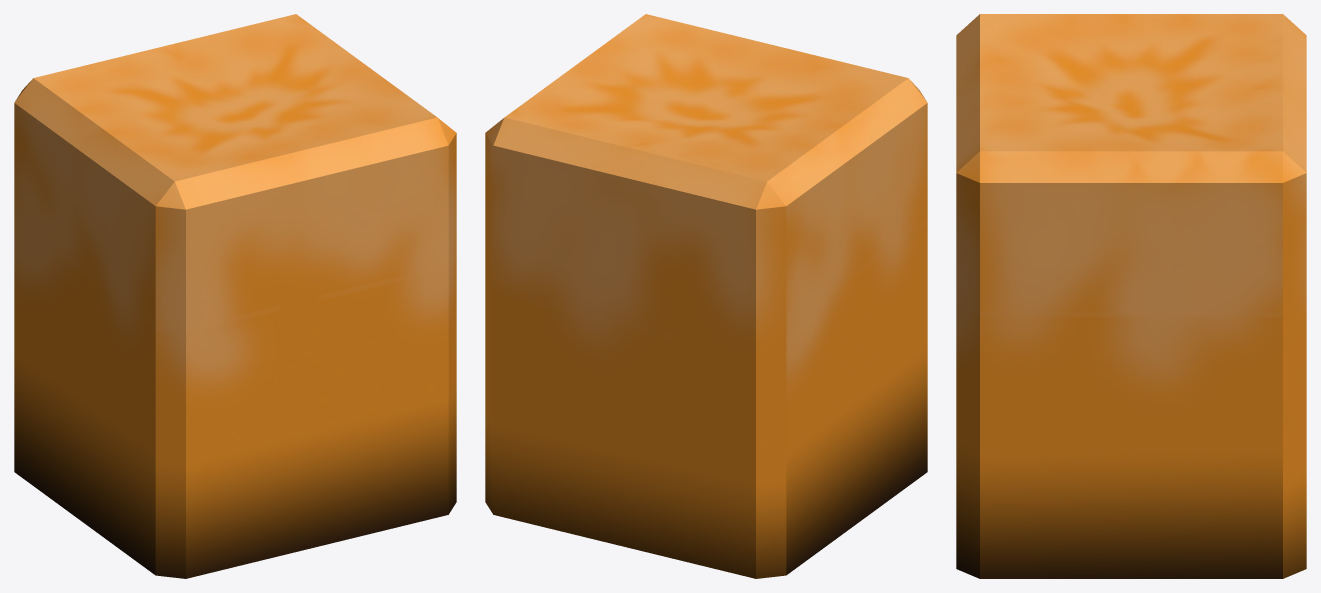
Rendered from arenasMovedizas.FBX.
The picture shows the model from 3 angles, left to right: view 1: azimuth 30°, elevation 25°; view 2: azimuth 150°, elevation 25°; view 3: azimuth 270°, elevation 25°; orthographic projection. The views are drawn at different scales.
Parts seen in each view (by area): view 1: arenasMovedizas; view 2: arenasMovedizas; view 3: arenasMovedizas.
Part boxes in pixels (<box>): arenasMovedizas: <box>14,14,456,578</box>; arenasMovedizas: <box>485,14,927,578</box>; arenasMovedizas: <box>956,14,1306,578</box>.
Size of the model in its own units: 47.16 by 58.28 by 44.35.
